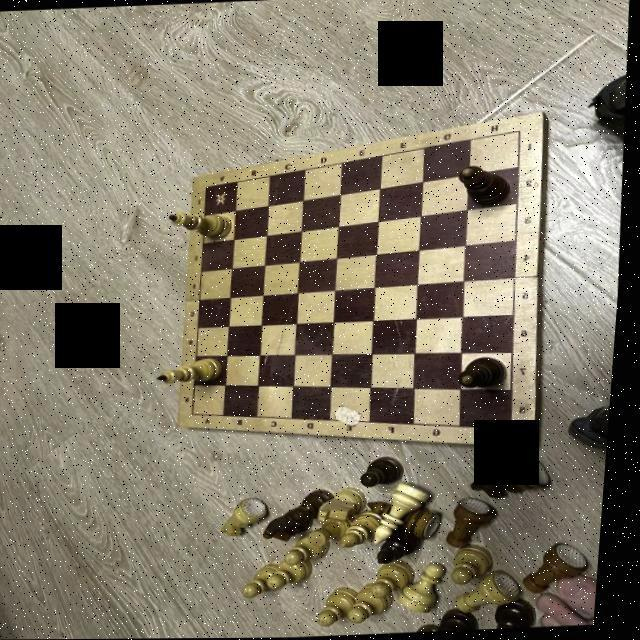chess-table-corners: (514, 126, 524, 136), (511, 426, 522, 434), (204, 184, 212, 191), (194, 410, 202, 417)
